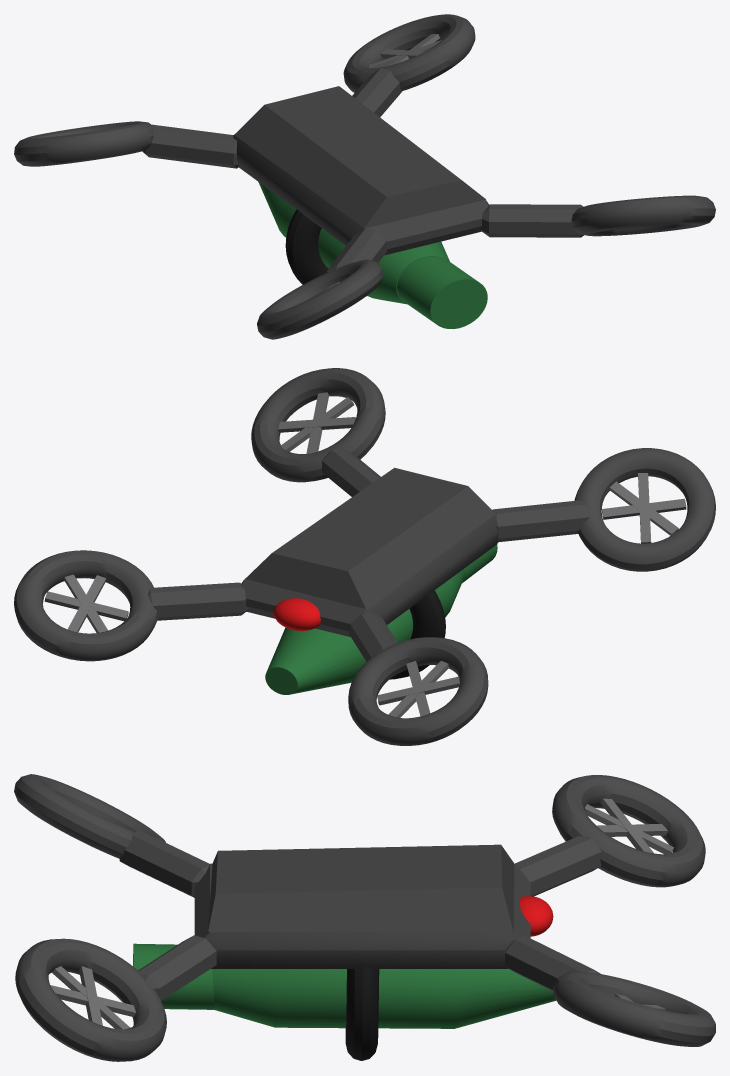
The model's file is Drone kamikaze.fbx.
3 renders of one model, top to bottom at view 1: azimuth 30°, elevation 25°; view 2: azimuth 150°, elevation 25°; view 3: azimuth 270°, elevation 25°, orthographic. The views are drawn at different scales.
Visible parts, largest first — view 1: Cube, Cube.012, Torus.009, Torus.005, Torus.007, Cylinder.001, Torus.001, Cylinder, Cube.032, Cube.013, Torus.011, Cube.040 (+1 smaller); view 2: Cube, Torus.005, Torus.009, Torus.001, Torus.007, Cube.012, Cylinder, Cube.040, Cube.024, Cube.032, Torus.011, Cube.013 (+12 smaller); view 3: Cube, Cylinder, Cube.012, Torus.007, Torus.001, Torus.009, Torus.005, Cube.024, Cube.013, Torus.011, Cube.032, Cube.040 (+8 smaller).
Boxes of the visible parts, left/top/right/bottom form: Cube: left=234, top=86, right=485, bottom=227; Cube.012: left=233, top=134, right=488, bottom=255; Torus.009: left=343, top=14, right=475, bottom=92; Torus.005: left=257, top=259, right=383, bottom=339; Torus.007: left=571, top=195, right=715, bottom=236; Cylinder.001: left=397, top=256, right=487, bottom=328; Torus.001: left=14, top=121, right=153, bottom=166; Cylinder: left=258, top=182, right=449, bottom=304; Cube.032: left=478, top=204, right=583, bottom=237; Cube.013: left=142, top=124, right=238, bottom=168; Torus.011: left=285, top=209, right=366, bottom=296; Cube.040: left=352, top=68, right=402, bottom=117; Cube: left=245, top=467, right=495, bottom=610; Torus.005: left=574, top=448, right=715, bottom=571; Torus.009: left=14, top=550, right=157, bottom=661; Torus.001: left=348, top=637, right=488, bottom=745; Torus.007: left=251, top=368, right=385, bottom=482; Cube.012: left=241, top=512, right=498, bottom=636; Cylinder: left=265, top=569, right=464, bottom=694; Cube.040: left=147, top=582, right=248, bottom=620; Cube.024: left=492, top=500, right=590, bottom=542; Cube.032: left=322, top=448, right=380, bottom=496; Torus.011: left=389, top=590, right=445, bottom=679; Cube.013: left=348, top=611, right=397, bottom=661; Cube: left=208, top=844, right=514, bottom=932; Cylinder: left=212, top=969, right=556, bottom=1028; Cube.012: left=194, top=863, right=530, bottom=968; Torus.007: left=15, top=938, right=166, bottom=1061; Torus.001: left=552, top=775, right=705, bottom=887; Torus.009: left=553, top=971, right=715, bottom=1046; Torus.005: left=14, top=774, right=165, bottom=858; Cube.024: left=119, top=830, right=209, bottom=897; Cube.013: left=515, top=836, right=601, bottom=896; Torus.011: left=345, top=966, right=379, bottom=1060; Cube.032: left=138, top=935, right=216, bottom=1000; Cube.040: left=505, top=936, right=600, bottom=990.
Size of the model in its own units: 916 by 312 by 1049.
